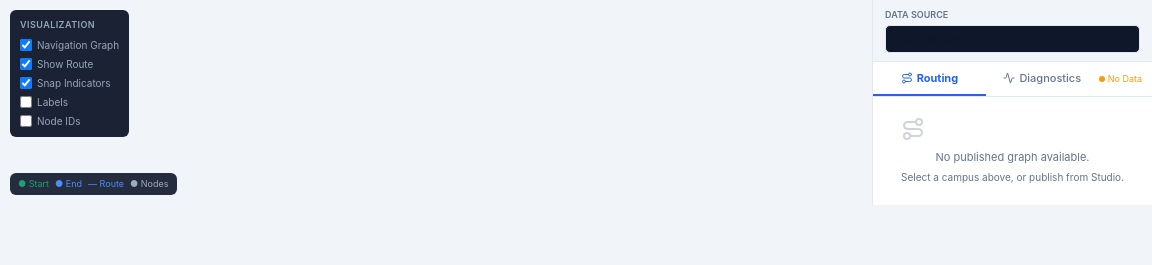
Scenario: NavigationInspector › switches to Diagnostics tab on click
Click the button "Diagnostics": [1042, 79] box [986,62,1099,96]
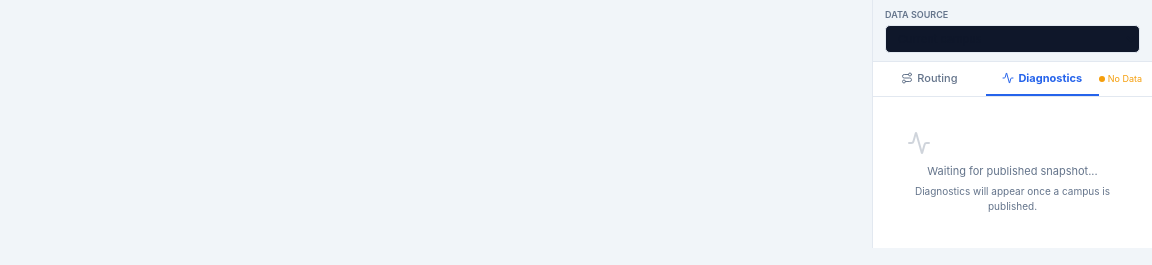
Expected: the text "Waiting for published snapshot..." is shown, [927,164,1098,178]
